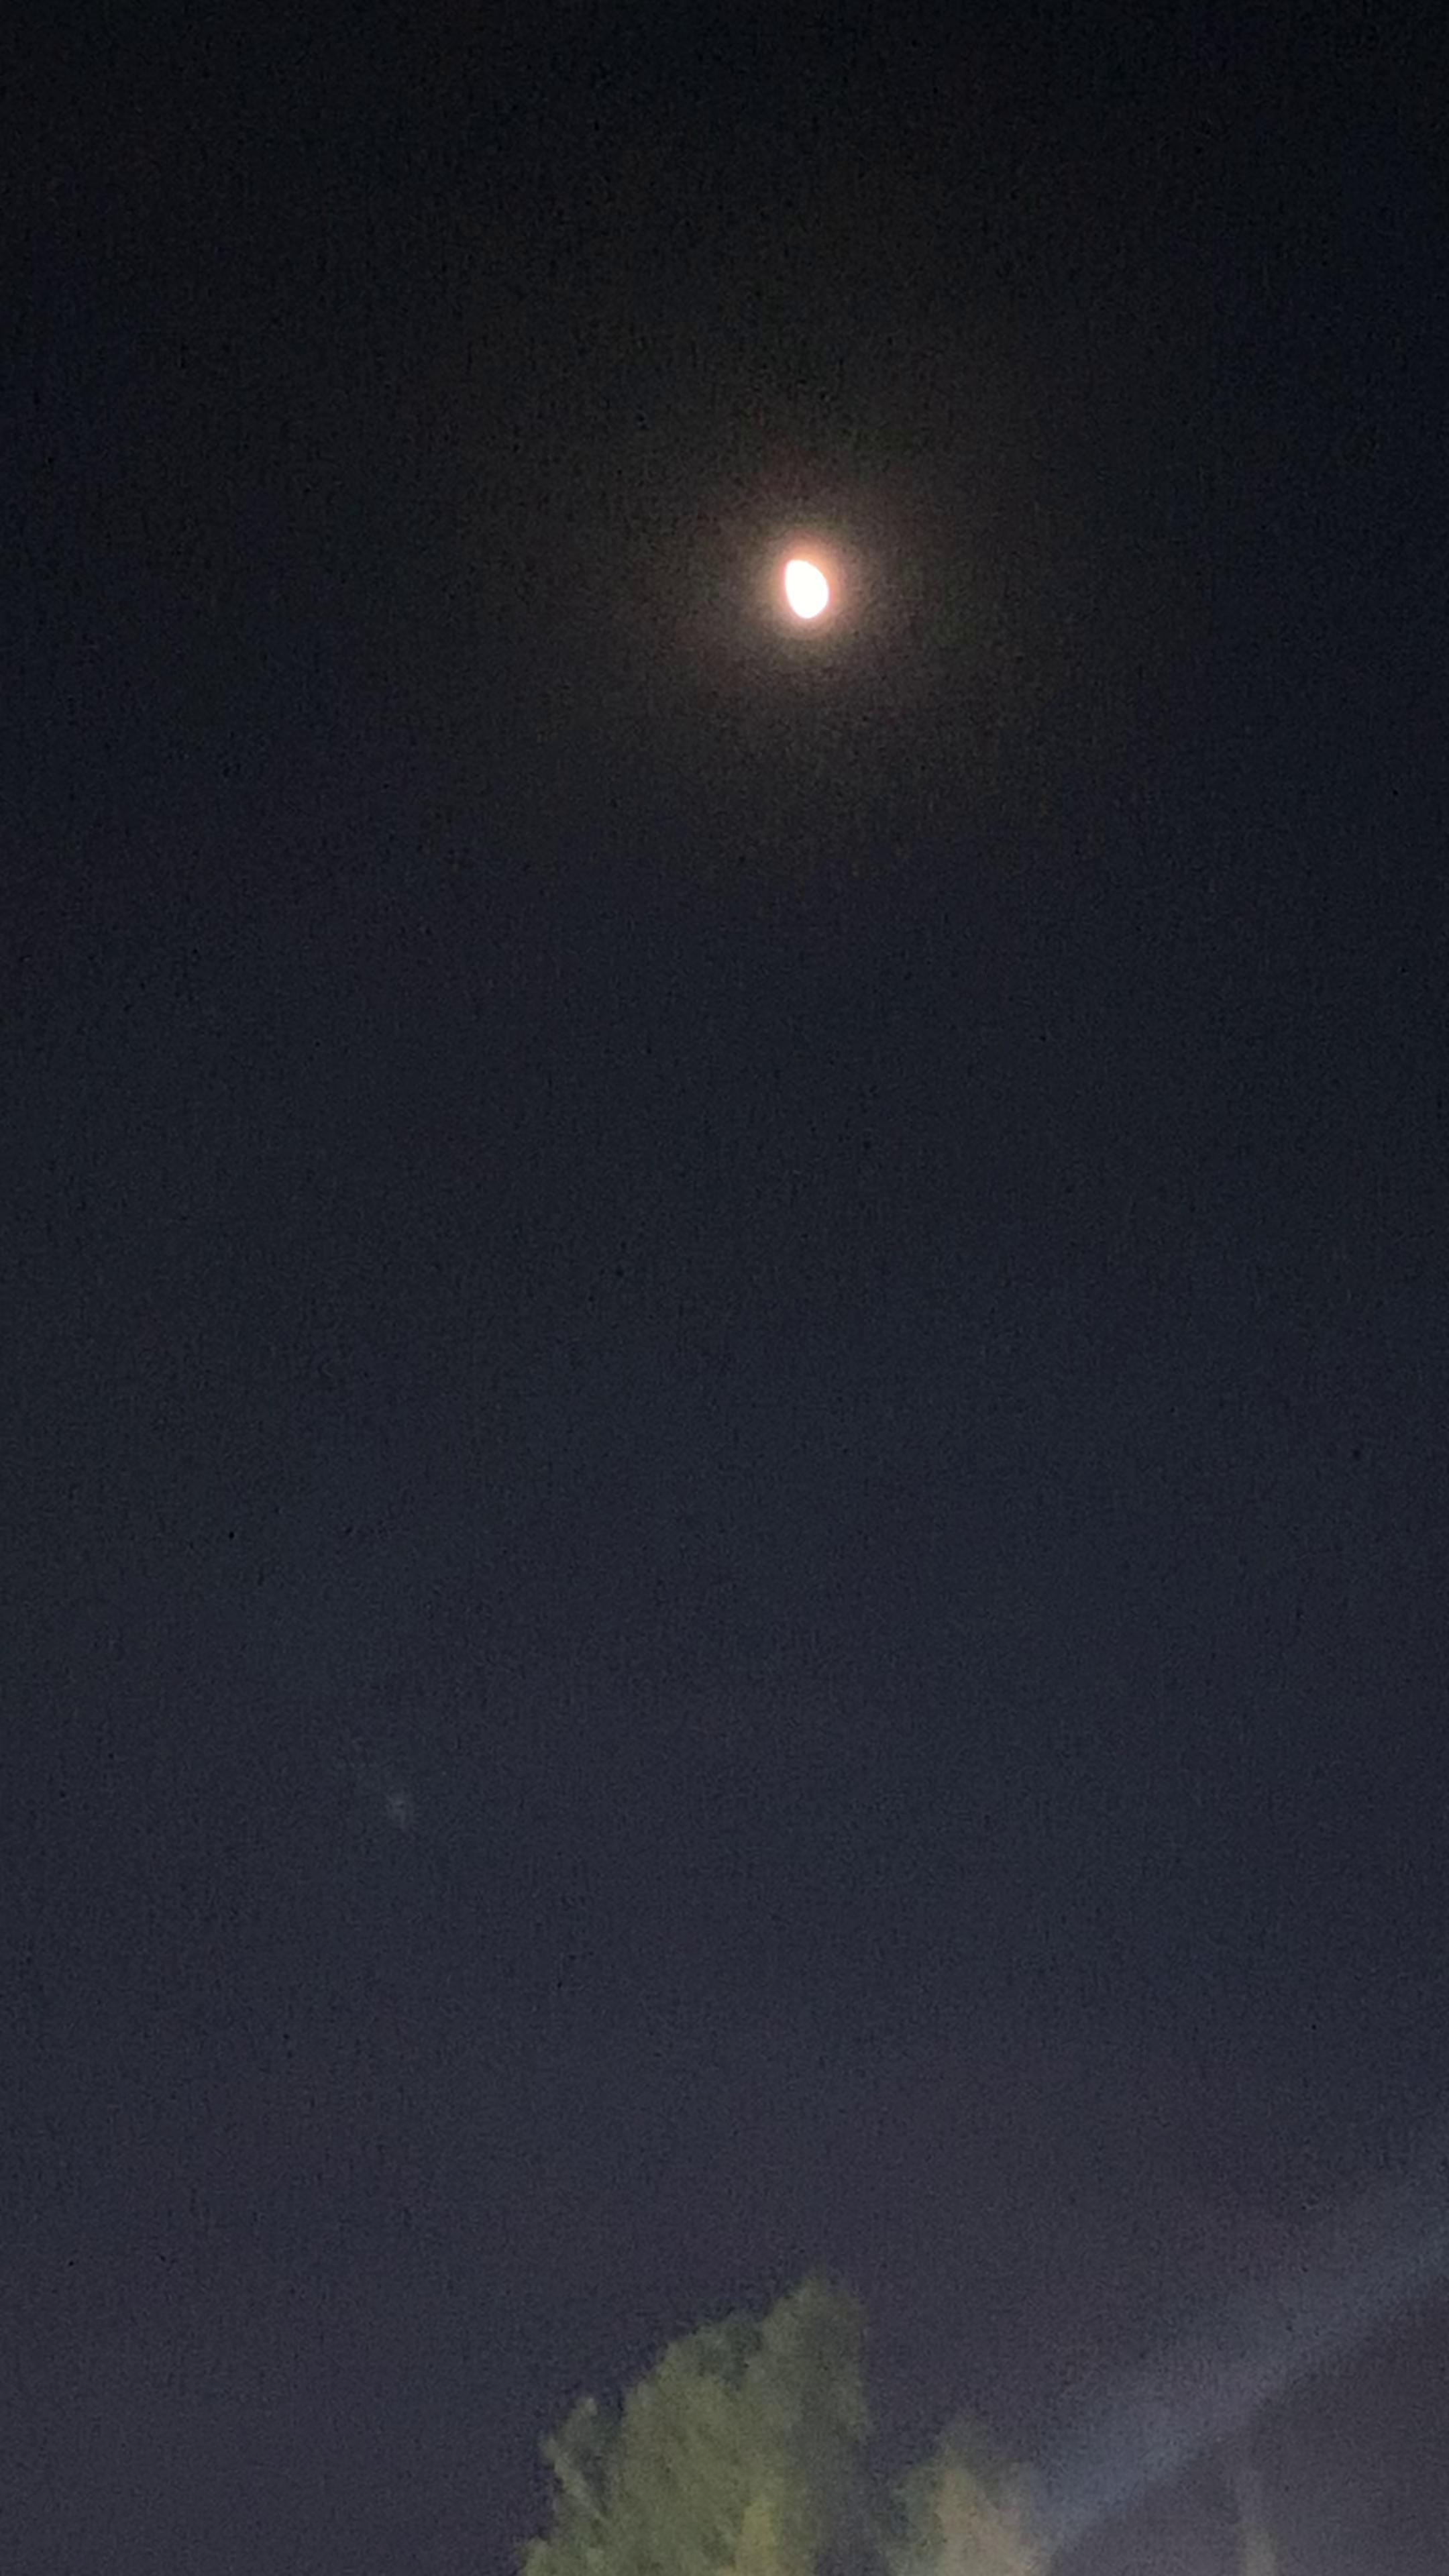moon: (732, 536, 892, 683)
